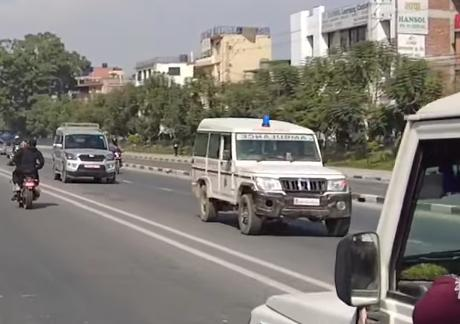SUV: (51, 121, 119, 185)
ambulance: (182, 111, 357, 237)
